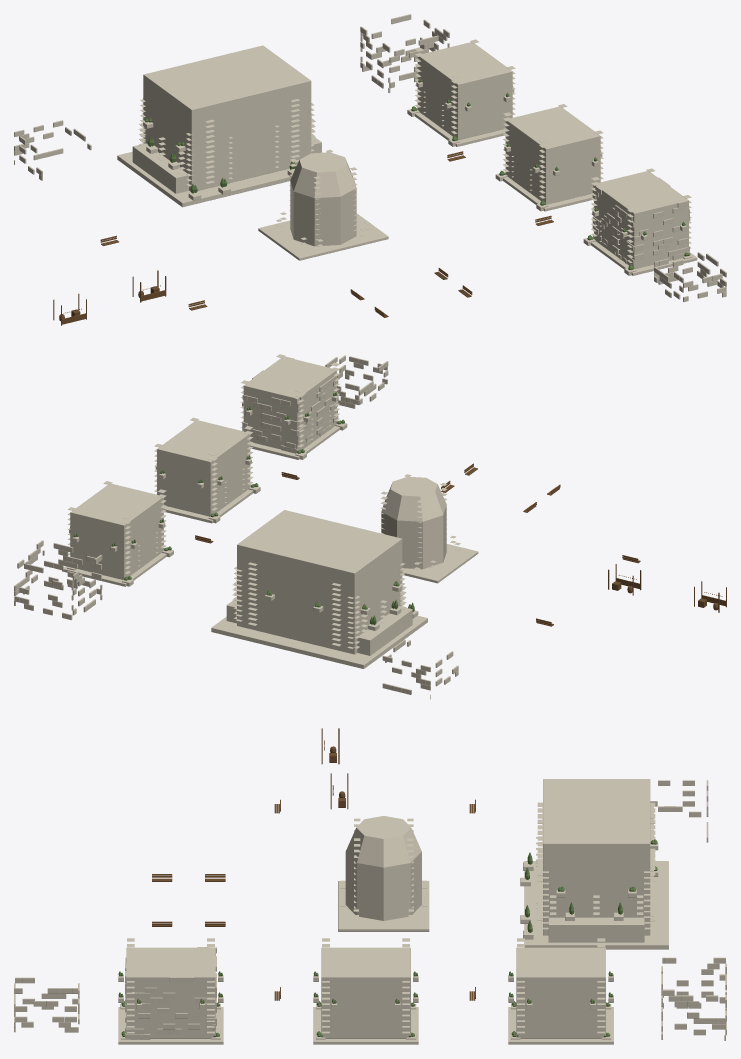
The model's file is Neris-19.glb.
3 views of the same model, one above another, from view 1: azimuth 30°, elevation 25°; view 2: azimuth 150°, elevation 25°; view 3: azimuth 270°, elevation 25° (orthographic). The views are drawn at different scales.
Parts seen in each view (by area): view 1: Ivory Limestone.001, Limestone Block Tone 2, Limestone Block Tone 2.001, Dark Walnut, Moss Green Leaves.001; view 2: Ivory Limestone.001, Limestone Block Tone 2, Limestone Block Tone 2.001, Dark Walnut, Moss Green Leaves.001; view 3: Ivory Limestone.001, Limestone Block Tone 2, Limestone Block Tone 2.001, Dark Walnut, Moss Green Leaves.001.
Boxes of the visible parts, bbox=[...] form: Ivory Limestone.001: bbox=[117, 39, 697, 275]; Limestone Block Tone 2: bbox=[14, 14, 726, 301]; Limestone Block Tone 2.001: bbox=[592, 177, 689, 267]; Dark Walnut: bbox=[53, 151, 553, 325]; Moss Green Leaves.001: bbox=[145, 78, 690, 269]; Ivory Limestone.001: bbox=[62, 354, 478, 668]; Limestone Block Tone 2: bbox=[14, 355, 458, 699]; Limestone Block Tone 2.001: bbox=[242, 356, 338, 453]; Dark Walnut: bbox=[195, 463, 726, 626]; Moss Green Leaves.001: bbox=[70, 392, 414, 624]; Ivory Limestone.001: bbox=[118, 779, 668, 1044]; Limestone Block Tone 2: bbox=[14, 780, 726, 1040]; Limestone Block Tone 2.001: bbox=[125, 947, 216, 1039]; Dark Walnut: bbox=[152, 728, 475, 1000]; Moss Green Leaves.001: bbox=[118, 839, 657, 1036].
Bounding box in the file's own units: 78.7 × 12 × 80.4.
